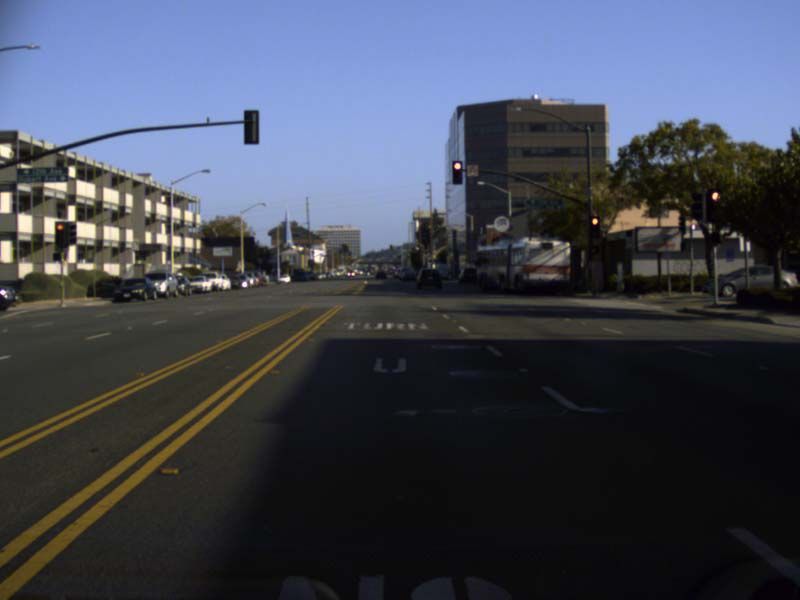Red: (708, 189, 721, 219), (55, 221, 66, 246), (589, 216, 600, 237), (451, 161, 460, 183)
